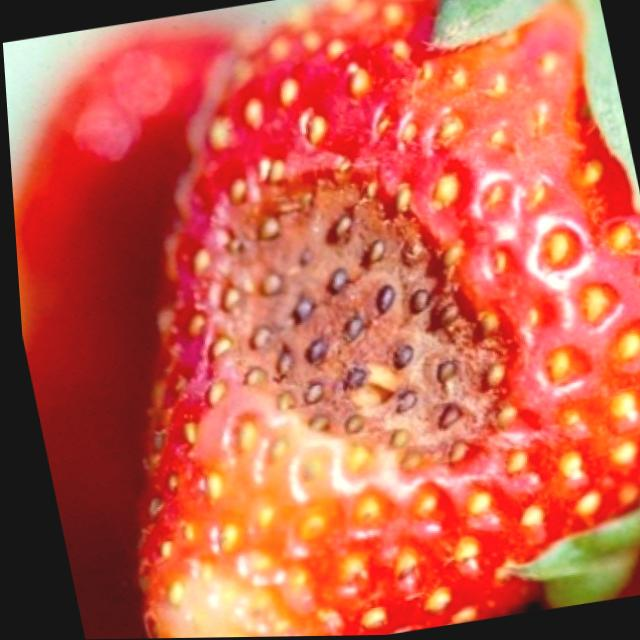Anthracnose Fruit Rot: (184, 154, 533, 486)
